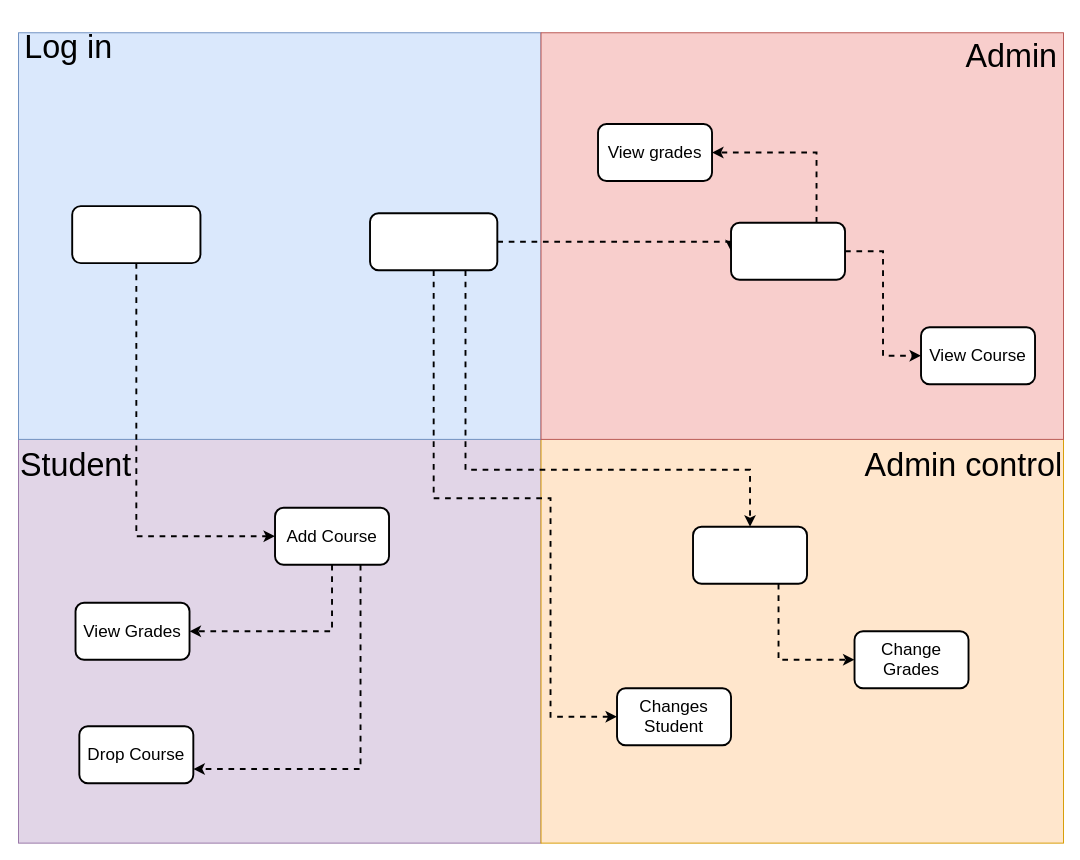
This 1080x860 diagram has some shape labels left out. Each missing label, with the centre of its shape:
Admin Log in: (433,241)
Change Courses: (750,554)
Student Log in: (136,234)
View Students: (788,250)
